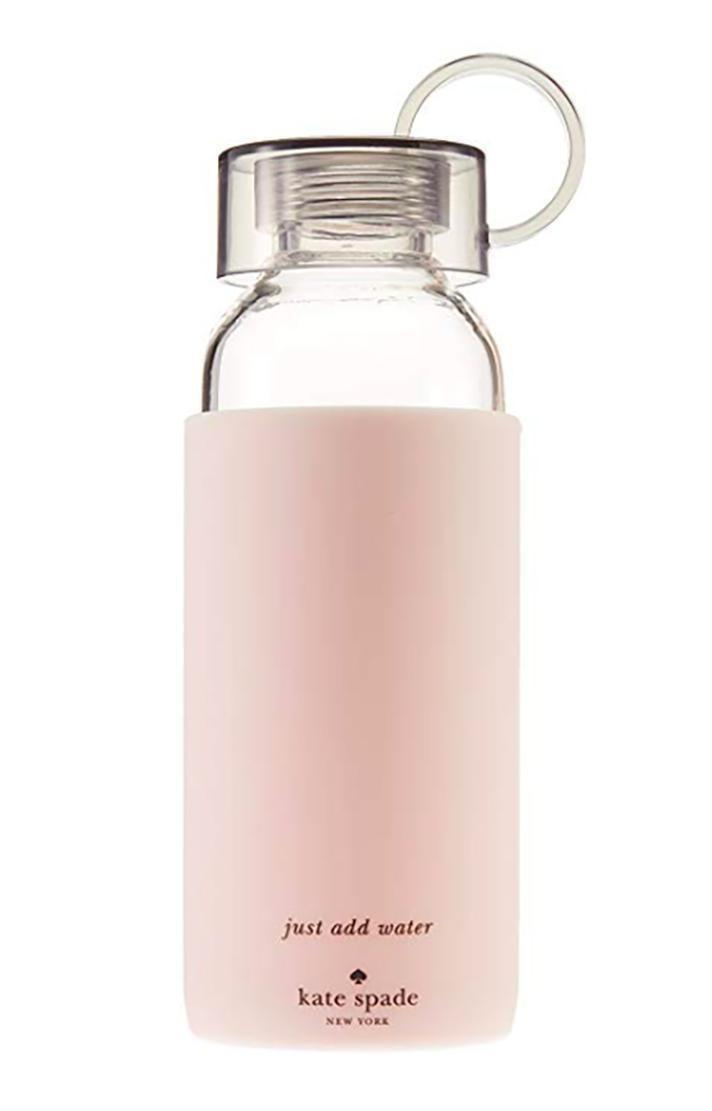gym bottle: (174, 138, 532, 1055)
